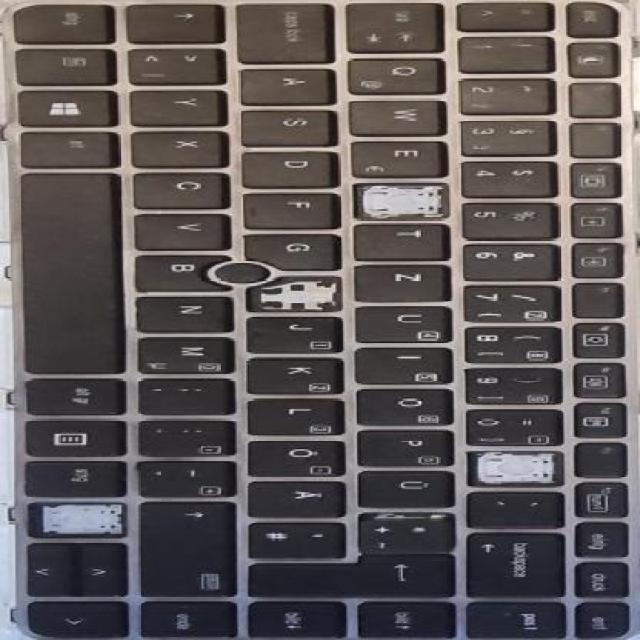Keyboard problems: (469, 452, 563, 485), (248, 278, 340, 311), (357, 185, 448, 217), (40, 503, 125, 535)
